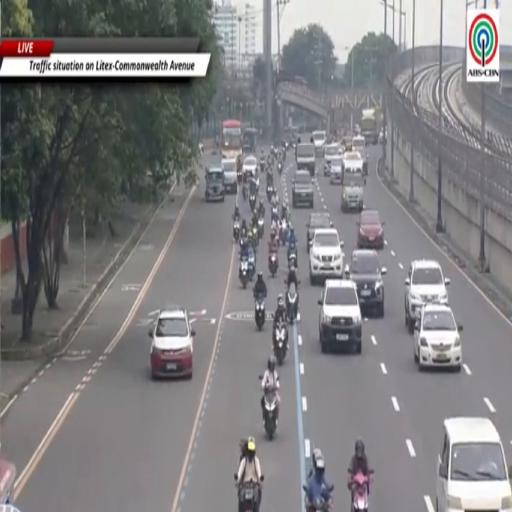bus: (222, 120, 242, 158)
car: (436, 418, 511, 511), (405, 260, 450, 333), (149, 307, 195, 378), (414, 303, 462, 371), (318, 280, 362, 354), (345, 250, 386, 317), (310, 228, 344, 284), (357, 210, 384, 249), (307, 213, 333, 251), (342, 172, 365, 212), (292, 170, 314, 207), (352, 136, 368, 175), (206, 167, 224, 201), (222, 158, 238, 193), (324, 143, 339, 175), (343, 151, 363, 174), (312, 131, 326, 156), (330, 155, 342, 184), (243, 156, 257, 177)
motorcycle: (351, 471, 372, 511), (303, 485, 333, 511), (264, 389, 278, 440), (273, 322, 288, 365), (239, 482, 258, 511), (286, 283, 298, 324), (239, 258, 250, 289), (255, 296, 265, 330), (268, 252, 278, 277), (248, 252, 255, 280), (288, 248, 297, 268), (280, 220, 287, 245), (233, 220, 240, 242), (252, 226, 259, 247), (266, 184, 274, 202), (258, 217, 264, 238), (249, 195, 256, 211), (242, 184, 248, 202), (271, 206, 278, 220), (260, 160, 266, 173), (237, 169, 242, 184), (278, 163, 282, 175), (285, 142, 288, 150)
truck: (360, 108, 378, 145), (296, 143, 315, 177)
